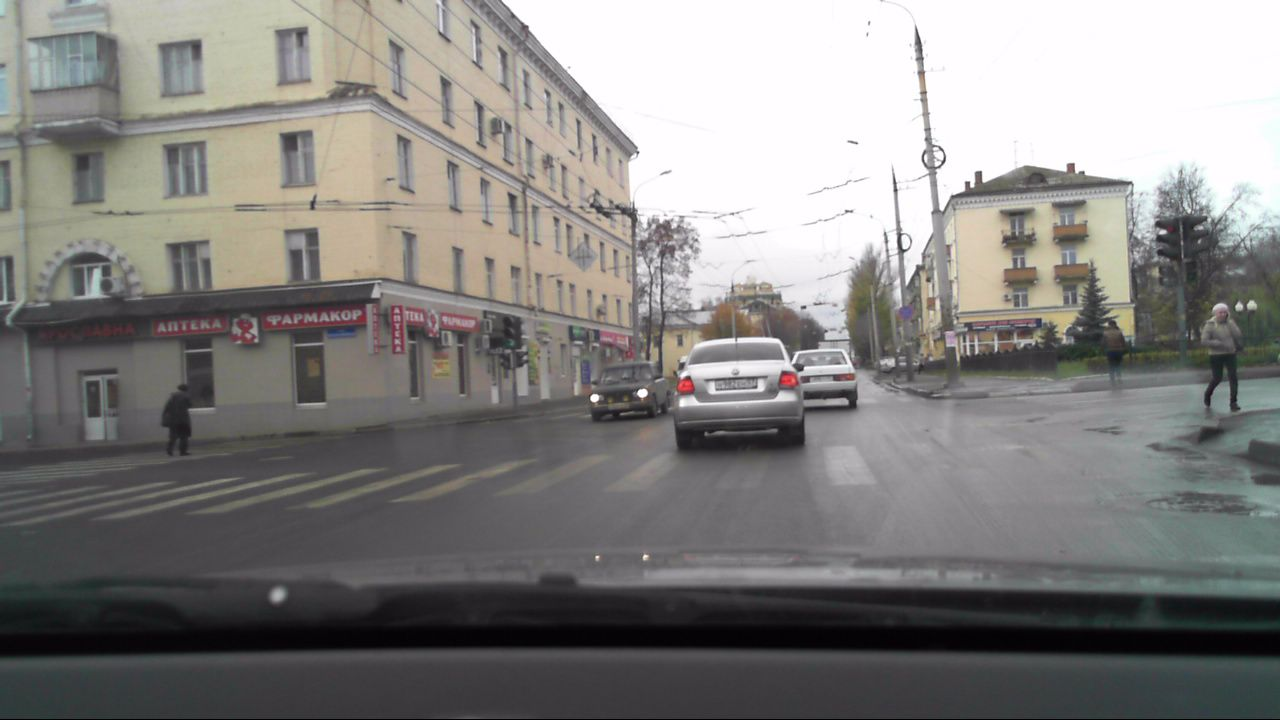No Parking: (896, 304, 917, 324)
